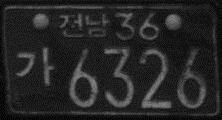2: (139, 46, 172, 110)
3: (103, 46, 134, 109), (113, 11, 136, 40)
6: (177, 46, 210, 109), (69, 49, 98, 108), (139, 11, 159, 41)
가: (16, 46, 55, 87)
전남_O: (58, 11, 110, 39)
